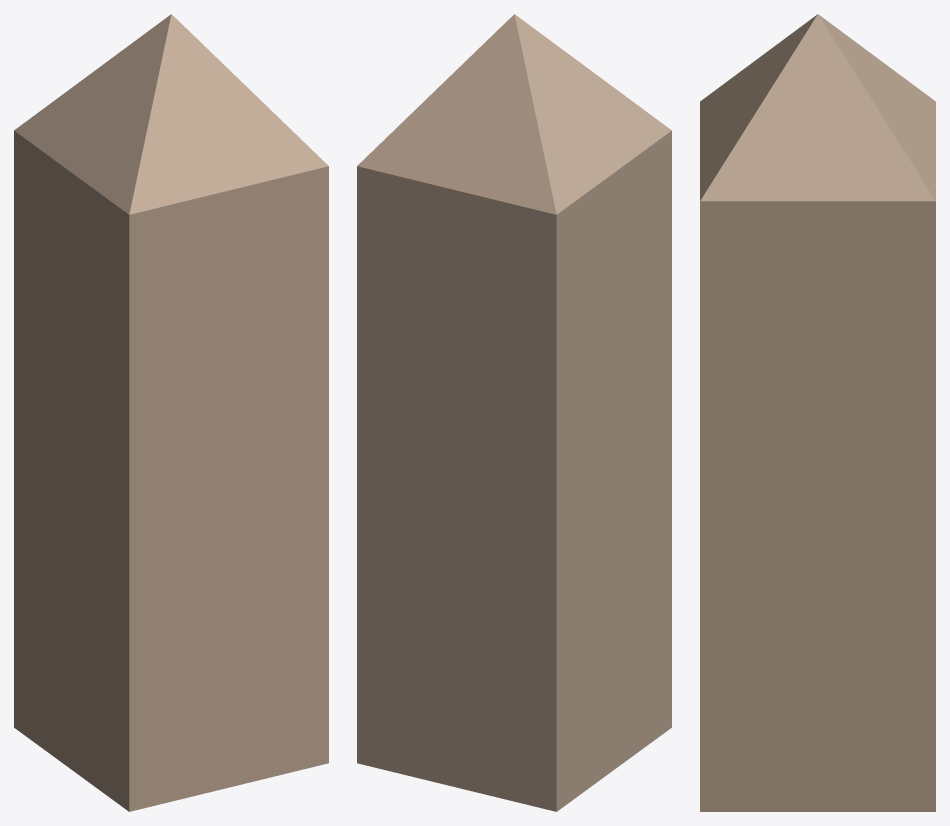
Rendered from kit_tower_b.glb.
3 views of the same model, side by side, from view 1: azimuth 30°, elevation 25°; view 2: azimuth 150°, elevation 25°; view 3: azimuth 270°, elevation 25° (orthographic). The views are drawn at different scales.
Visible parts, largest first — view 1: kit_tower_b; view 2: kit_tower_b; view 3: kit_tower_b.
Boxes of the visible parts, box(x1,y1,x2,y2) form: kit_tower_b: box(14, 14, 328, 811); kit_tower_b: box(357, 14, 671, 811); kit_tower_b: box(700, 14, 935, 811).
Bounding box in the file's own units: 0.7 × 2.45 × 0.7.
